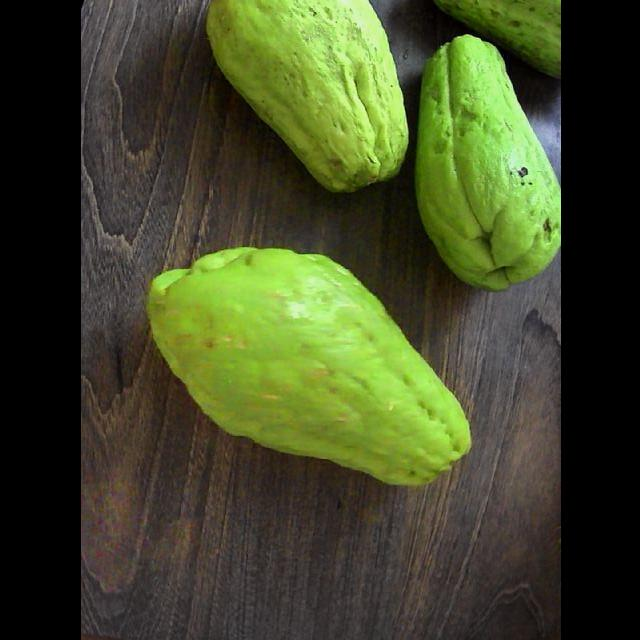chayote: (147, 248, 470, 485), (206, 1, 407, 192), (415, 36, 560, 290), (433, 1, 560, 78)
